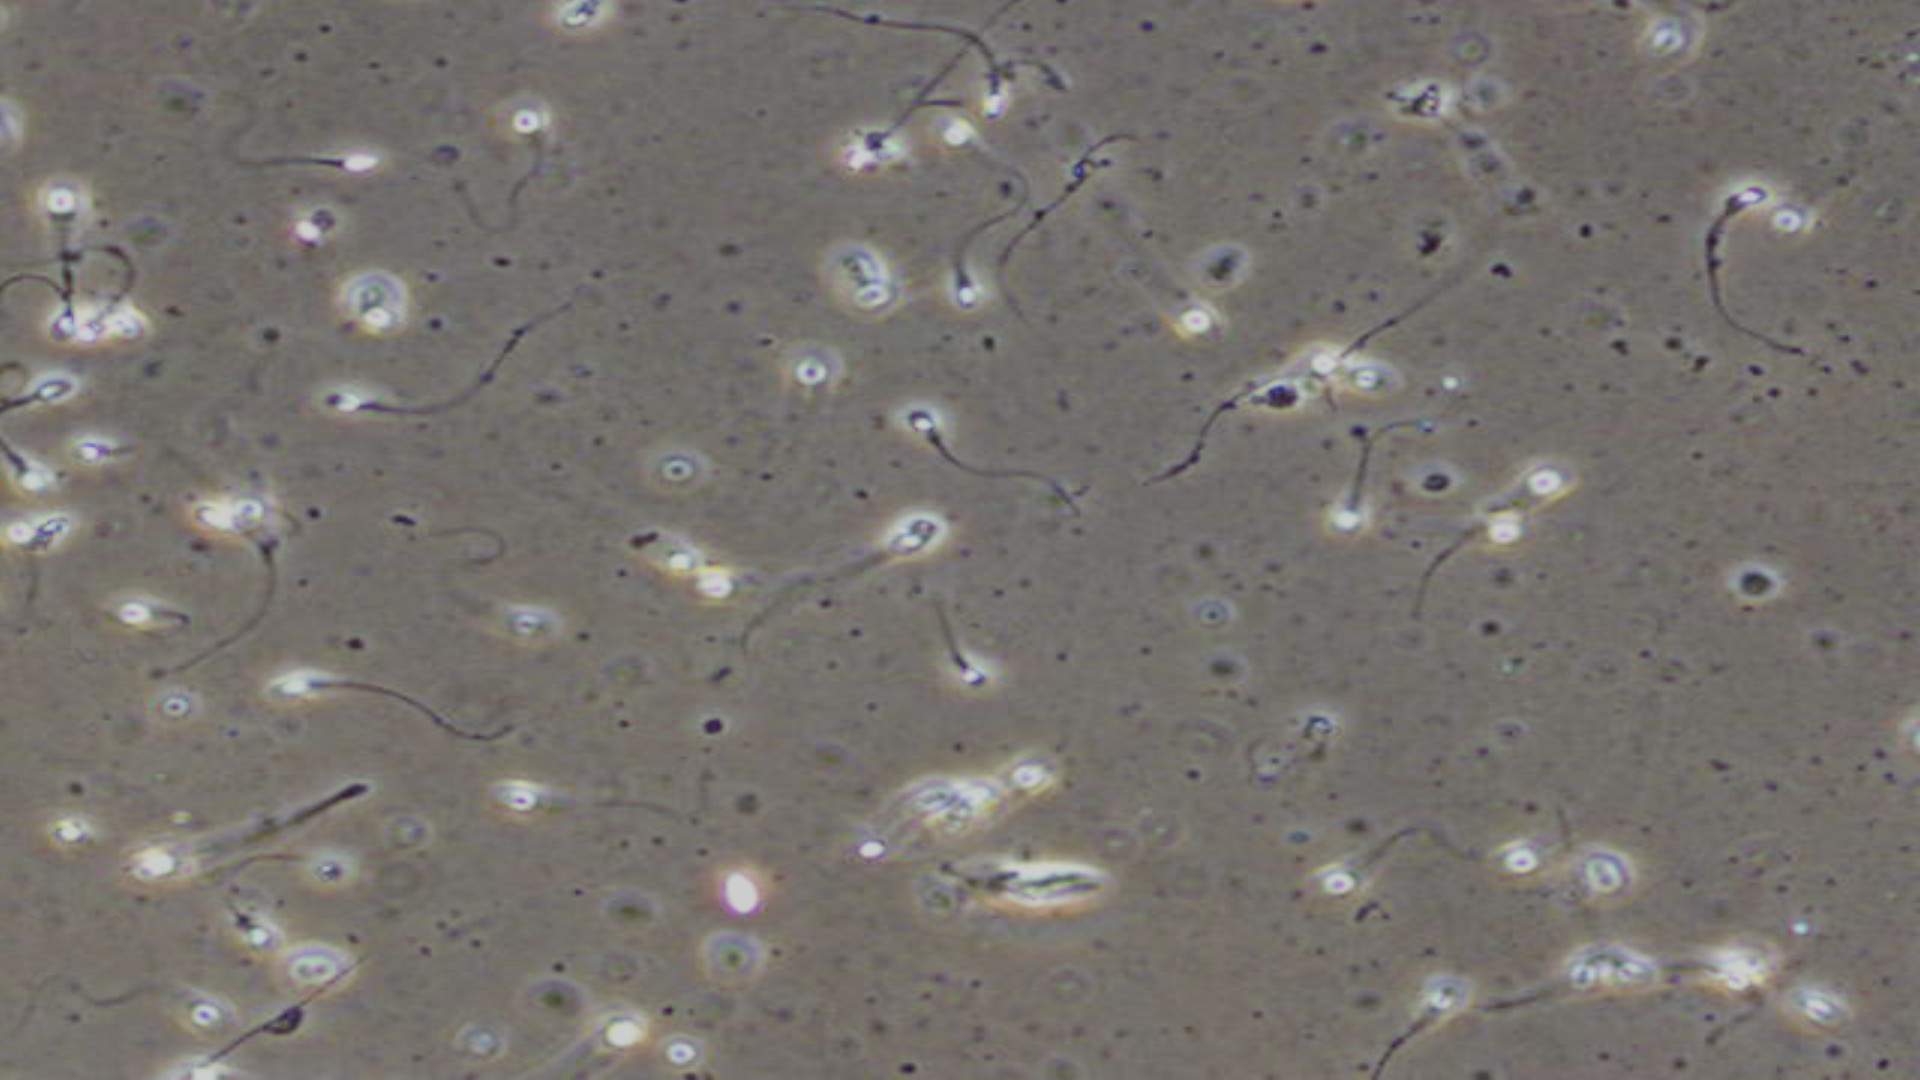sperm: (266, 674, 500, 753), (890, 404, 1058, 492), (1360, 971, 1470, 1080), (779, 527, 935, 604), (1320, 425, 1424, 534), (314, 381, 467, 446), (1311, 825, 1433, 902), (851, 84, 940, 181), (899, 599, 988, 684), (239, 142, 389, 191), (947, 227, 1006, 327), (1693, 191, 1764, 273), (963, 28, 1015, 128), (11, 272, 75, 348), (3, 434, 59, 502), (1, 371, 75, 415)
